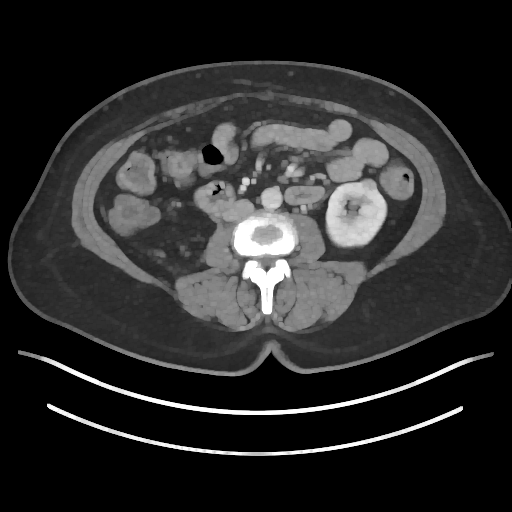Lesion: (359, 176, 378, 196)
